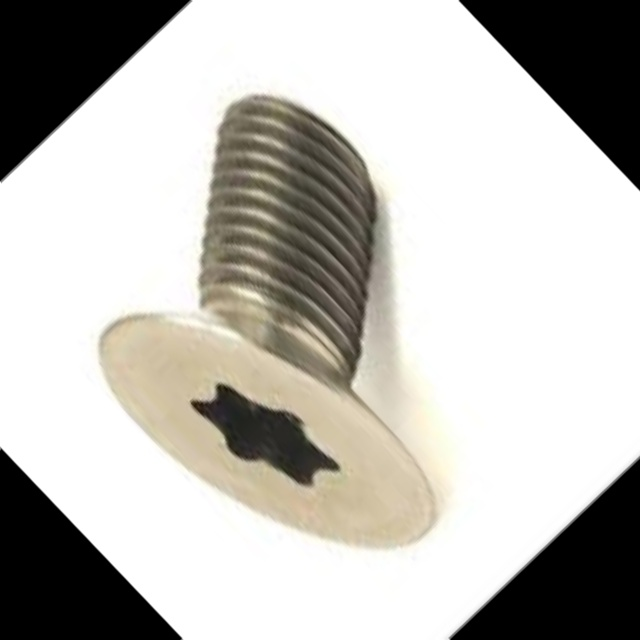torx: (70, 233, 460, 630)
